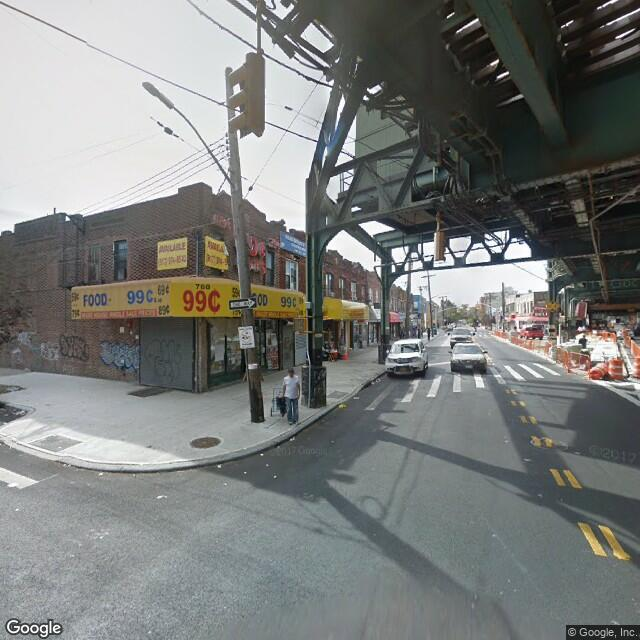litter: (155, 495, 171, 501), (337, 404, 346, 408), (354, 396, 360, 401), (223, 481, 229, 485), (260, 454, 266, 457), (218, 465, 222, 469), (243, 471, 251, 473), (290, 438, 299, 439), (273, 474, 277, 476), (265, 464, 268, 466), (98, 473, 102, 474)
